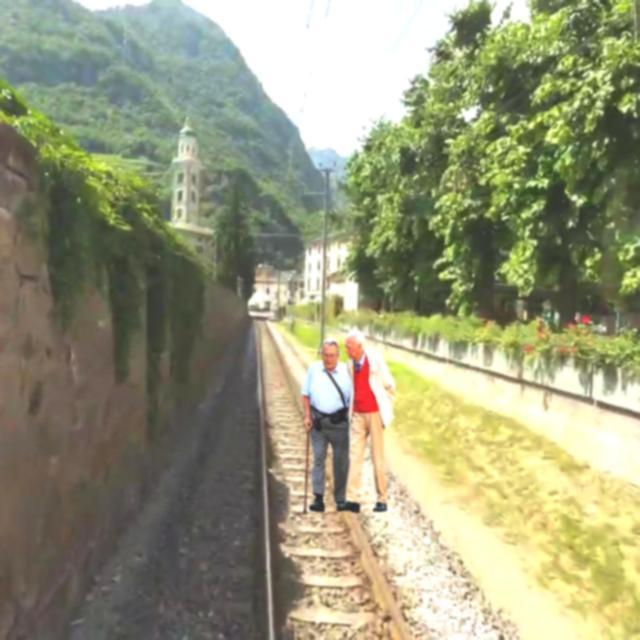rail: (228, 319, 445, 640)
